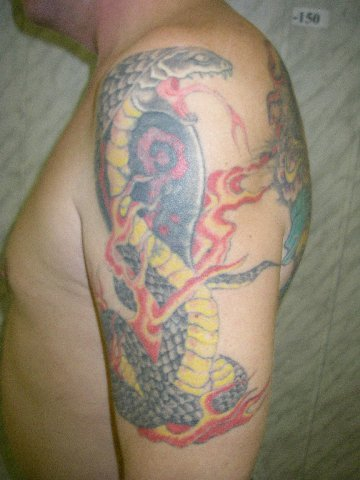tatu7_zmeya: (87, 33, 262, 462)
